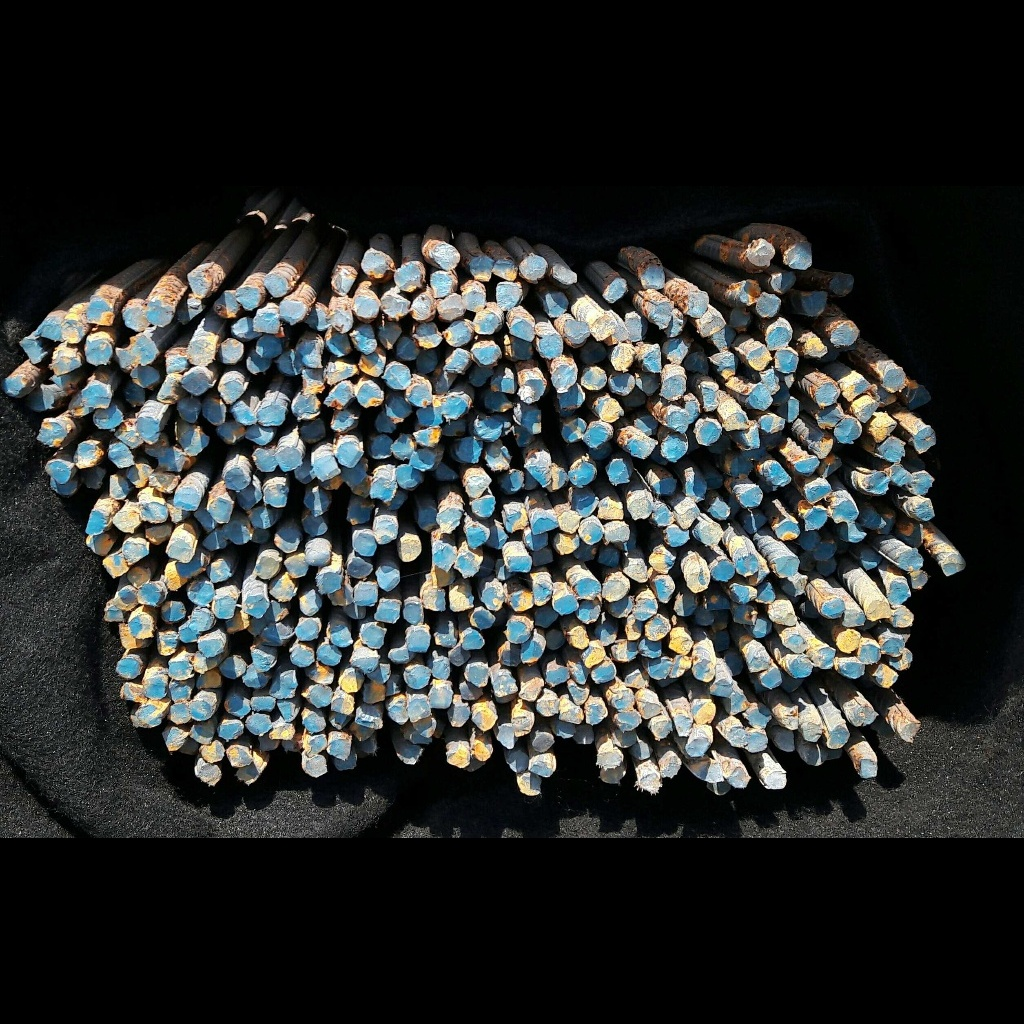dipstick: (760, 460, 791, 488), (381, 290, 410, 319), (324, 325, 352, 355), (200, 397, 228, 427), (293, 390, 321, 420), (785, 240, 812, 271), (526, 451, 552, 483), (829, 322, 860, 348), (431, 242, 459, 270), (897, 519, 925, 547), (85, 298, 112, 327), (187, 337, 214, 366), (748, 237, 773, 268), (37, 419, 65, 446), (393, 263, 421, 290), (519, 255, 546, 283), (135, 414, 161, 443), (608, 686, 637, 712), (832, 417, 861, 443), (297, 337, 322, 367), (351, 324, 376, 354), (48, 349, 82, 371), (222, 520, 253, 544), (733, 484, 764, 508), (165, 535, 192, 562), (745, 383, 772, 410), (113, 505, 139, 533), (272, 672, 298, 700), (463, 471, 491, 497), (504, 616, 532, 642), (661, 373, 687, 401), (710, 351, 736, 379), (120, 305, 149, 330), (325, 380, 350, 409), (640, 259, 665, 288), (628, 435, 657, 460), (769, 603, 798, 628), (487, 440, 511, 470), (144, 299, 170, 326), (84, 339, 111, 365), (279, 299, 306, 325), (181, 368, 208, 394), (415, 321, 442, 347), (774, 515, 800, 542), (82, 383, 110, 408), (362, 249, 387, 277), (223, 694, 251, 719), (444, 319, 472, 344), (557, 695, 582, 723), (132, 335, 156, 364), (162, 561, 186, 590), (483, 389, 512, 413), (629, 492, 653, 521), (650, 545, 674, 574), (681, 470, 704, 500), (353, 295, 379, 321), (252, 446, 278, 472), (517, 408, 543, 434), (20, 336, 45, 363), (218, 338, 243, 365), (214, 290, 239, 317), (429, 270, 454, 297), (591, 660, 618, 685), (812, 380, 839, 405), (387, 391, 411, 419), (395, 736, 419, 764), (754, 290, 778, 318), (798, 742, 826, 766), (649, 297, 672, 326), (563, 414, 586, 443), (429, 680, 452, 709), (93, 405, 123, 427), (324, 360, 357, 380), (530, 575, 552, 605), (37, 318, 63, 343), (359, 350, 384, 376), (358, 383, 383, 409), (237, 482, 262, 508), (159, 447, 185, 472), (248, 644, 273, 670), (468, 256, 493, 282), (386, 364, 411, 390), (602, 277, 627, 303), (940, 551, 965, 577), (229, 316, 256, 340), (300, 419, 327, 443), (338, 439, 362, 466), (117, 420, 141, 447), (496, 282, 520, 309), (572, 489, 596, 516), (637, 691, 661, 718), (663, 338, 687, 365), (643, 656, 670, 680), (331, 266, 354, 294), (311, 455, 339, 478), (463, 519, 486, 547), (661, 433, 684, 461), (178, 431, 207, 453), (256, 403, 285, 425), (436, 295, 465, 317), (583, 697, 605, 726), (642, 617, 671, 639), (189, 581, 214, 606), (543, 290, 568, 315), (476, 417, 501, 442), (623, 557, 648, 582), (27, 388, 53, 412), (163, 347, 187, 373), (74, 442, 100, 466), (913, 426, 937, 452), (329, 306, 352, 333), (273, 574, 296, 601), (353, 528, 376, 555), (374, 516, 397, 543), (696, 418, 719, 445), (698, 382, 718, 413), (597, 499, 625, 521), (613, 710, 641, 732), (372, 473, 393, 502), (256, 334, 281, 358), (276, 350, 301, 374), (231, 401, 256, 425), (277, 447, 301, 472), (122, 537, 146, 562), (142, 675, 167, 699), (256, 554, 281, 578), (347, 556, 372, 580), (376, 565, 400, 590), (444, 348, 468, 373), (581, 367, 606, 391), (453, 553, 478, 577), (508, 587, 533, 611), (637, 771, 661, 796), (686, 291, 710, 316), (661, 311, 685, 336), (685, 351, 709, 376), (710, 326, 734, 351), (832, 498, 857, 522), (377, 322, 400, 348), (264, 480, 287, 506), (273, 528, 299, 551), (108, 442, 134, 465), (167, 679, 193, 702), (263, 623, 289, 646), (309, 663, 335, 686), (351, 649, 377, 672), (475, 310, 498, 336), (448, 586, 474, 609), (649, 716, 672, 742), (731, 306, 754, 332), (745, 345, 771, 368), (801, 292, 824, 318), (843, 376, 869, 399), (626, 313, 648, 340), (612, 343, 634, 370), (584, 424, 611, 446), (398, 537, 420, 564), (881, 367, 908, 389), (654, 577, 676, 604), (217, 424, 245, 445), (471, 345, 500, 365), (556, 386, 585, 406), (595, 749, 624, 769), (816, 406, 845, 426), (237, 285, 261, 309), (207, 498, 231, 522), (175, 486, 199, 510), (353, 581, 377, 605), (375, 599, 399, 623), (360, 624, 384, 648), (510, 317, 534, 341), (537, 333, 561, 357), (415, 349, 439, 373), (456, 438, 480, 462), (606, 460, 630, 484), (571, 461, 595, 485), (899, 546, 923, 570), (330, 410, 355, 433), (368, 434, 391, 459), (305, 489, 328, 514), (161, 600, 186, 623), (564, 321, 587, 346), (401, 599, 424, 624), (405, 627, 428, 652), (554, 591, 577, 616), (516, 772, 541, 795), (878, 439, 903, 462), (908, 471, 933, 494), (803, 506, 826, 531), (858, 544, 881, 569), (634, 597, 657, 622), (827, 724, 850, 749), (254, 309, 280, 331), (263, 272, 285, 298), (157, 375, 179, 401), (298, 591, 324, 613), (329, 694, 355, 716), (357, 708, 383, 730), (552, 534, 578, 556), (728, 763, 750, 789), (849, 705, 875, 727), (781, 671, 807, 693), (131, 364, 158, 385), (177, 396, 198, 423), (247, 506, 274, 527), (413, 295, 434, 322), (641, 345, 662, 372), (438, 507, 459, 534), (449, 700, 470, 727), (599, 765, 626, 786), (860, 503, 881, 530), (610, 728, 638, 748), (305, 307, 328, 331), (301, 369, 324, 393), (161, 726, 185, 749), (284, 554, 308, 577), (316, 570, 340, 593), (295, 618, 319, 641), (237, 760, 261, 783), (634, 412, 658, 435), (599, 398, 622, 422), (471, 706, 495, 729), (700, 313, 724, 336), (831, 272, 854, 296), (888, 580, 911, 604), (732, 603, 756, 626), (801, 720, 824, 744), (187, 271, 209, 296), (194, 507, 216, 532), (128, 614, 153, 636), (195, 764, 220, 786), (226, 746, 251, 768), (441, 397, 466, 419), (405, 666, 430, 688), (386, 698, 408, 723), (612, 639, 637, 661), (765, 325, 790, 347), (802, 335, 827, 357), (872, 417, 897, 439), (741, 513, 766, 535), (806, 483, 831, 505), (667, 630, 692, 652), (892, 606, 914, 631), (141, 503, 167, 524), (145, 524, 171, 545), (85, 533, 111, 554), (220, 656, 246, 677), (345, 502, 371, 523), (463, 286, 484, 312), (504, 506, 525, 532), (505, 552, 531, 573), (482, 584, 503, 610), (533, 606, 559, 627), (664, 526, 690, 547), (62, 318, 82, 345), (149, 473, 176, 493), (555, 364, 575, 391), (521, 637, 541, 664), (403, 724, 430, 744), (773, 556, 800, 576), (838, 657, 865, 677), (177, 298, 200, 321), (246, 350, 269, 373), (218, 379, 241, 402), (303, 513, 326, 536), (245, 594, 268, 617), (317, 643, 340, 666), (666, 409, 689, 432), (856, 756, 879, 779), (224, 469, 248, 491), (190, 606, 212, 630), (363, 680, 385, 704), (330, 736, 352, 760), (509, 337, 533, 359), (409, 385, 433, 407), (637, 372, 661, 394), (464, 664, 488, 686), (407, 698, 431, 720), (445, 746, 469, 768), (596, 619, 618, 643), (631, 738, 653, 762), (907, 387, 931, 409), (864, 472, 888, 494), (837, 630, 861, 652), (692, 701, 714, 725), (898, 719, 920, 743), (122, 381, 143, 406), (44, 461, 69, 482), (50, 477, 75, 498), (116, 586, 137, 611), (686, 735, 711, 756), (702, 592, 731, 610), (412, 427, 438, 447), (579, 343, 605, 363), (609, 372, 635, 392), (795, 457, 821, 477), (570, 659, 589, 686), (729, 583, 756, 602), (68, 394, 90, 417), (79, 467, 102, 489), (127, 465, 150, 487), (137, 584, 160, 606), (212, 595, 235, 617), (116, 656, 139, 678), (291, 645, 314, 667), (329, 625, 352, 647), (341, 669, 363, 692), (472, 495, 495, 517), (604, 520, 626, 543), (423, 588, 445, 611), (576, 577, 599, 599), (577, 599, 600, 621), (676, 504, 698, 527), (911, 498, 934, 520), (673, 593, 695, 616), (726, 725, 748, 748), (375, 410, 396, 434), (227, 608, 248, 632), (552, 263, 576, 284), (416, 408, 444, 426), (514, 424, 535, 448), (435, 462, 459, 483), (430, 565, 454, 586), (811, 647, 835, 668), (857, 644, 881, 665), (108, 474, 128, 499), (491, 373, 516, 393), (603, 579, 628, 599), (521, 680, 541, 705), (740, 280, 760, 305), (769, 272, 794, 292), (638, 638, 663, 658), (729, 691, 749, 716), (775, 728, 795, 753), (839, 608, 864, 628), (247, 425, 273, 444), (723, 412, 749, 431), (413, 449, 435, 471), (500, 471, 522, 493), (814, 555, 836, 577), (138, 705, 161, 726), (494, 258, 517, 279), (594, 315, 615, 338), (581, 520, 602, 543), (433, 546, 456, 567), (626, 668, 649, 689), (873, 385, 896, 406), (687, 569, 708, 592), (874, 666, 897, 687), (746, 730, 767, 753), (748, 706, 771, 727), (868, 598, 889, 621), (144, 437, 168, 457), (103, 555, 127, 575), (189, 725, 213, 745), (329, 584, 353, 604), (310, 685, 330, 709), (460, 629, 484, 649), (501, 643, 521, 667), (493, 676, 517, 696), (740, 422, 760, 446), (817, 457, 841, 477), (889, 463, 909, 487), (388, 647, 416, 664), (682, 395, 699, 423), (87, 510, 106, 535), (351, 721, 376, 740), (513, 712, 532, 737), (672, 655, 691, 680), (120, 683, 146, 701), (198, 743, 224, 761), (245, 715, 271, 733), (621, 390, 647, 408), (113, 349, 135, 370), (128, 564, 149, 586), (206, 560, 228, 581), (304, 711, 326, 732), (524, 378, 545, 400), (708, 497, 729, 519), (712, 560, 734, 581), (156, 630, 176, 653), (189, 700, 212, 720), (396, 464, 416, 487), (417, 506, 437, 529), (533, 754, 553, 777), (856, 400, 879, 420), (908, 567, 928, 590), (822, 599, 845, 619), (745, 619, 768, 639), (693, 659, 713, 682), (710, 679, 733, 699), (765, 770, 788, 790), (393, 435, 412, 459), (276, 701, 300, 720), (468, 366, 492, 385), (533, 515, 557, 534), (760, 415, 784, 434), (707, 435, 731, 454), (609, 597, 633, 616), (1, 378, 26, 396), (302, 757, 327, 775), (661, 753, 679, 778), (168, 661, 194, 678), (166, 705, 192, 722), (761, 367, 778, 393), (782, 705, 799, 731), (119, 623, 140, 644), (598, 546, 619, 567), (473, 607, 494, 628), (585, 643, 606, 664), (780, 400, 801, 421), (791, 657, 812, 678), (398, 338, 418, 360), (654, 476, 676, 496), (544, 629, 566, 649), (508, 750, 528, 772), (532, 732, 554, 752), (813, 434, 833, 456), (785, 576, 807, 596), (890, 649, 912, 669), (244, 672, 267, 691), (652, 506, 675, 525), (525, 530, 548, 549), (536, 697, 559, 716), (568, 680, 587, 703), (740, 446, 769, 461), (218, 722, 242, 740), (549, 467, 567, 491), (489, 524, 505, 551), (848, 519, 866, 543), (625, 616, 643, 640), (753, 562, 771, 586), (725, 651, 743, 675), (706, 777, 730, 795), (761, 431, 782, 451), (497, 725, 516, 747), (546, 666, 568, 685), (575, 724, 594, 746), (737, 555, 756, 577), (760, 667, 779, 689), (433, 367, 449, 393), (295, 460, 313, 483), (551, 719, 574, 737), (699, 524, 722, 542), (749, 654, 772, 672), (673, 714, 691, 737), (271, 723, 295, 740), (196, 673, 223, 688), (104, 602, 124, 622), (449, 647, 469, 667), (471, 741, 491, 761), (797, 530, 817, 550), (268, 600, 287, 621), (609, 323, 628, 344), (575, 542, 596, 561), (570, 627, 589, 648), (730, 456, 751, 475), (883, 638, 904, 657), (712, 630, 731, 651), (703, 761, 722, 782), (202, 532, 224, 550), (178, 557, 200, 575), (531, 548, 553, 566), (460, 682, 482, 700), (786, 635, 808, 653), (802, 598, 820, 620), (443, 419, 466, 436), (589, 442, 612, 459), (758, 583, 775, 606), (317, 475, 343, 490), (197, 639, 223, 654), (252, 695, 276, 711), (773, 382, 789, 406), (815, 540, 834, 560), (250, 527, 271, 545), (179, 623, 200, 641), (309, 548, 330, 566), (413, 717, 434, 735), (367, 666, 389, 683), (494, 414, 511, 436), (433, 657, 450, 679), (345, 603, 368, 619), (248, 616, 267, 635), (436, 628, 455, 647), (907, 453, 926, 472), (705, 472, 724, 491), (343, 465, 363, 483), (166, 502, 184, 522), (560, 512, 578, 532), (621, 530, 638, 551), (307, 736, 326, 754), (695, 606, 713, 625), (259, 733, 279, 750), (329, 712, 350, 728), (881, 510, 894, 535), (493, 559, 511, 577), (712, 611, 729, 630), (386, 675, 401, 696), (389, 492, 405, 511), (798, 553, 814, 572), (359, 738, 379, 753), (476, 558, 491, 578), (357, 476, 370, 499), (334, 757, 358, 769), (283, 737, 302, 752), (824, 745, 844, 759), (48, 373, 66, 388), (193, 655, 208, 673), (523, 474, 537, 489)
